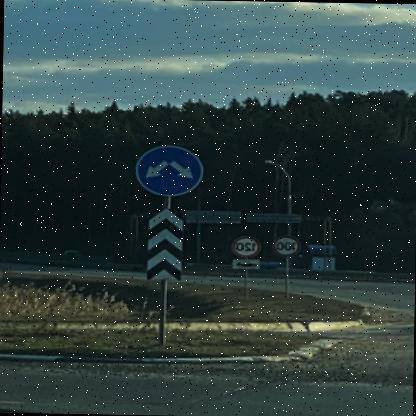speedlimit: (234, 233, 264, 255), (273, 233, 301, 256)
